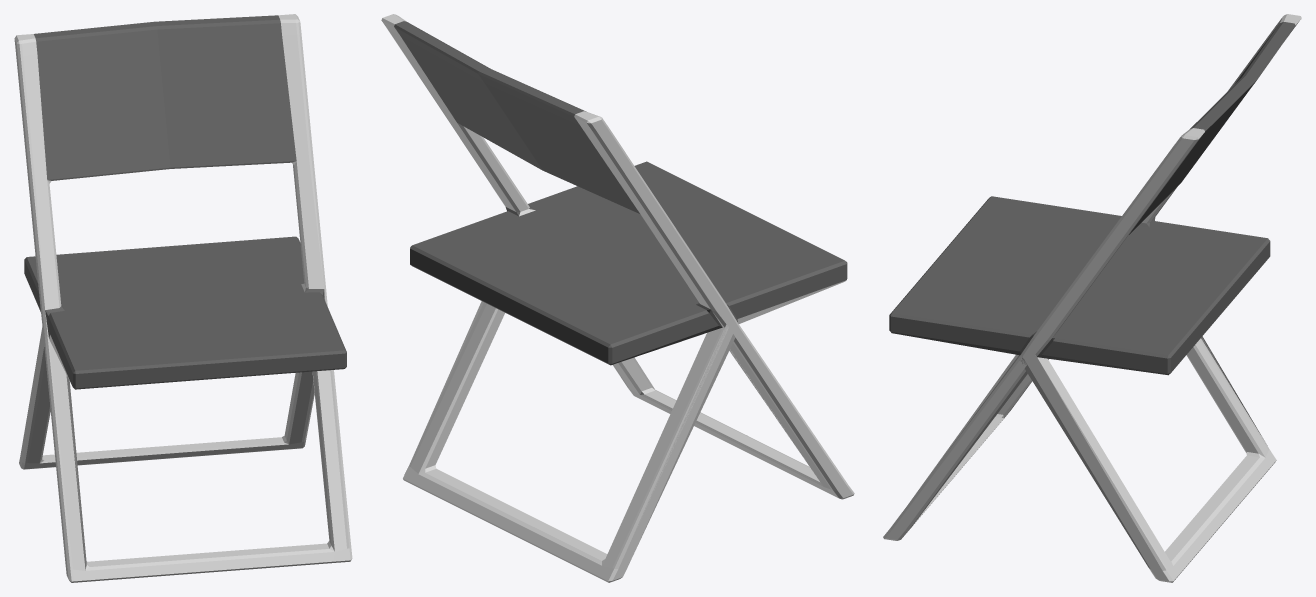
File: chair02.fbx
The picture shows the model from 3 angles, left to right: view 1: azimuth 30°, elevation 25°; view 2: azimuth 150°, elevation 25°; view 3: azimuth 270°, elevation 25°; orthographic projection. The views are drawn at different scales.
Parts seen in each view (by area): view 1: Chair1; view 2: Chair1; view 3: Chair1.
Boxes of the visible parts, x1,y1,x2,y2 form: Chair1: (14, 14, 352, 582); Chair1: (381, 14, 854, 582); Chair1: (883, 14, 1301, 582).
Size of the model in its own units: 44.32 by 54.62 by 46.1.
Materials: 1 (1 with a texture image).
